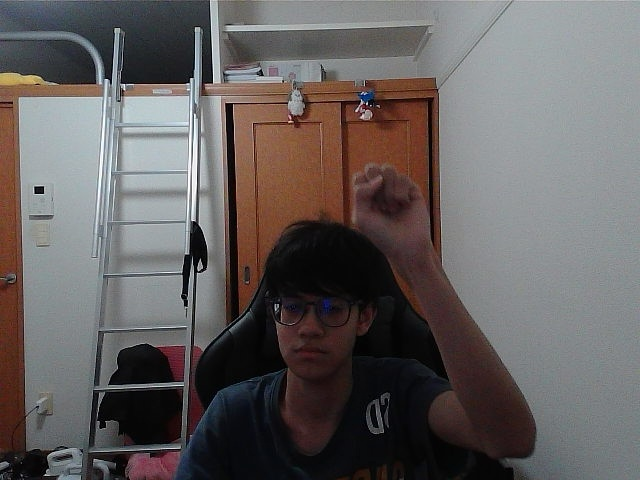closed_palm: (359, 169, 414, 247)
